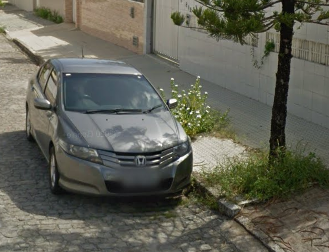car: (21, 43, 198, 204)
